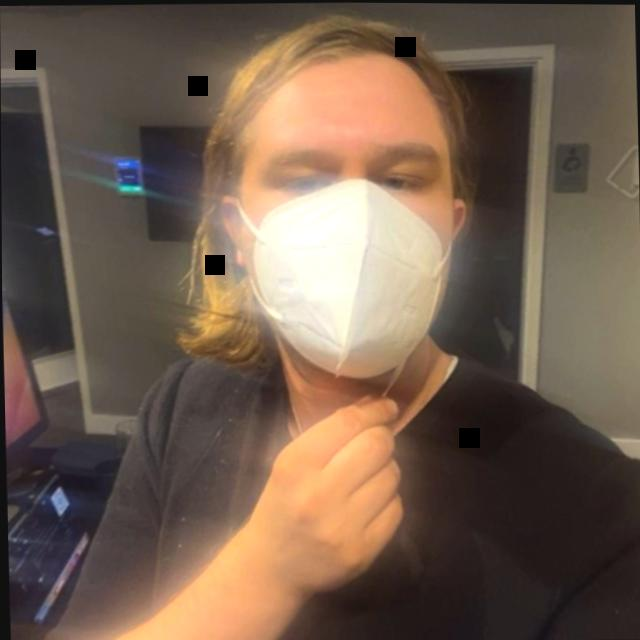Mask: (159, 1, 492, 418)
